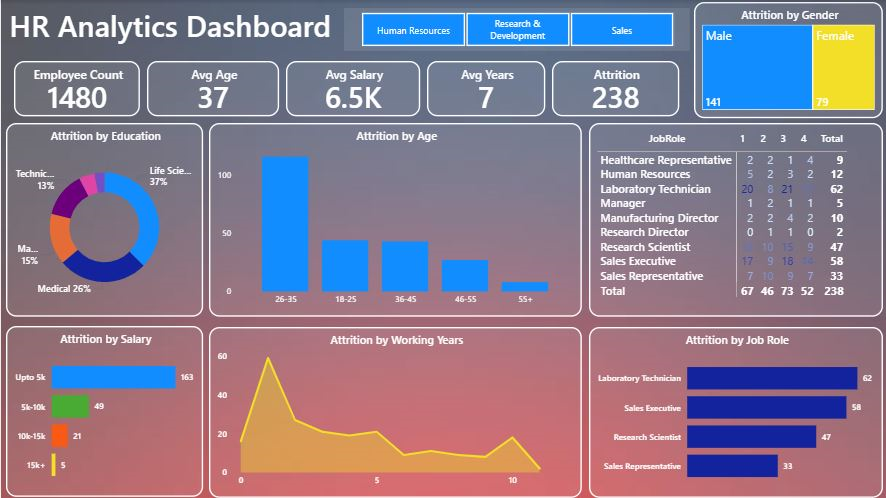

What the dashboard file says about the page in this screenshot:
{"tool":"powerbi","page":{"name":"Page 1","canvas":[1280,720],"ordinal":0},"visuals":[{"type":"barChart","title":"Attrition by Salary","fields":{"Category":["HR_Analytics.SalarySlab"],"Y":["Sum(HR_Analytics.AttritionCount)"]},"box":[7.2,471.3,284.8,247.2],"z":0},{"type":"areaChart","title":"Attrition by Working Years","fields":{"Category":["HR_Analytics.YearsAtCompany"],"Y":["Sum(HR_Analytics.AttritionCount)"]},"box":[300.7,472.8,539.3,247.2],"z":1000},{"type":"barChart","title":"Attrition by Job Role","fields":{"Category":["HR_Analytics.JobRole"],"Y":["Sum(HR_Analytics.AttritionCount)"]},"box":[850.1,472.8,425.1,247.2],"z":2000},{"type":"columnChart","title":"Attrition by Age","fields":{"Category":["HR_Analytics.AgeGroup"],"Y":["Sum(HR_Analytics.AttritionCount)"]},"box":[300.7,177.8,539.3,280.5],"z":3000},{"type":"donutChart","title":"Attrition by Education","fields":{"Category":["HR_Analytics.EducationField"],"Y":["Sum(HR_Analytics.AttritionCount)"]},"box":[7.2,177.8,284.8,280.5],"z":4000},{"type":"card","title":"Employee Count","fields":{"Values":["Sum(HR_Analytics.EmployeeCount)"]},"box":[18.8,88.2,182.2,79.5],"z":5000},{"type":"card","title":"Avg Age","fields":{"Values":["Avg(HR_Analytics.Age)"]},"box":[211.1,88.2,190.8,79.5],"z":6000},{"type":"card","title":"Avg Salary","fields":{"Values":["Avg(HR_Analytics.MonthlyIncome)"]},"box":[412,88.2,193.7,79.5],"z":7000},{"type":"card","title":"Avg Years","fields":{"Values":["Avg(HR_Analytics.YearsAtCompany)"]},"box":[615.9,88.2,170.6,79.5],"z":8000},{"type":"pivotTable","fields":{"Rows":["HR_Analytics.JobRole"],"Columns":["HR_Analytics.JobSatisfaction"],"Values":["Sum(HR_Analytics.AttritionCount)"]},"box":[850.1,177.8,425.1,280.5],"z":9000},{"type":"card","title":"Attrition","fields":{"Values":["Sum(HR_Analytics.AttritionCount)"]},"box":[796.6,88.2,183.6,79.5],"z":10000},{"type":"treemap","title":"Attrition by Gender","fields":{"Group":["HR_Analytics.Gender"],"Values":["Sum(HR_Analytics.AttritionCount)"]},"box":[1001.9,2.9,273.3,167.7],"z":11000},{"type":"slicer","fields":{"Values":["HR_Analytics.Department"]},"box":[495.9,11.6,500.2,62.2],"z":12000},{"type":"textbox","box":[7.2,2.9,501.7,70.8],"z":13000}]}

Visuals, with their boxes in screenshot pixels (x1, y1, x2, y2), scaled from the page's 1280x720 canvas onto the 886x498 screenshot:
"Attrition by Salary" barChart: [5,326,202,497]
"Attrition by Working Years" areaChart: [208,327,581,497]
"Attrition by Job Role" barChart: [588,327,883,497]
"Attrition by Age" columnChart: [208,123,581,317]
"Attrition by Education" donutChart: [5,123,202,317]
"Employee Count" card: [13,61,139,116]
"Avg Age" card: [146,61,278,116]
"Avg Salary" card: [285,61,419,116]
"Avg Years" card: [426,61,544,116]
pivotTable - HR_Analytics.JobRole x HR_Analytics.JobSatisfaction: [588,123,883,317]
"Attrition" card: [551,61,678,116]
"Attrition by Gender" treemap: [694,2,883,118]
slicer - HR_Analytics.Department: [343,8,689,51]
textbox: [5,2,352,51]
